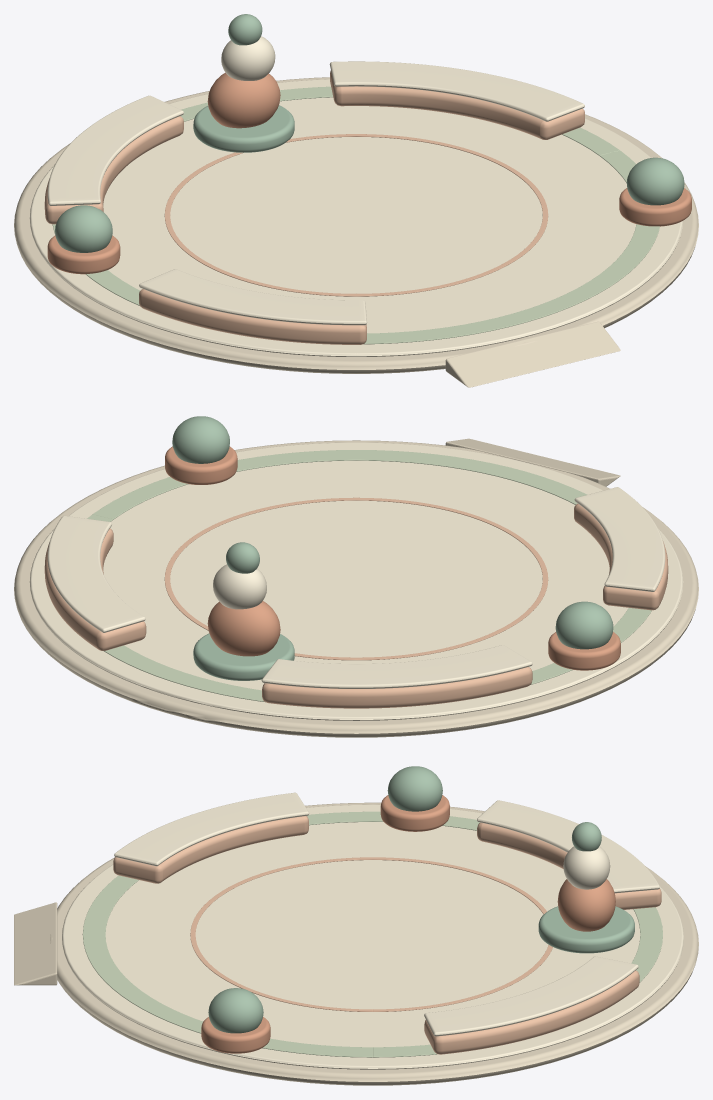
File: community_plaza.glb
3 renders of one model, top to bottom at view 1: azimuth 30°, elevation 25°; view 2: azimuth 150°, elevation 25°; view 3: azimuth 270°, elevation 25°, orthographic. The views are drawn at different scales.
Visible parts, largest first — view 1: Plaza | gathering surface, Plaza | circular foundation, Plaza | outer sage paving, Plaza | curved plinth top 1, Plaza | curved plinth top 2, Plaza | curved plinth top 3, Plaza | entry ramp, Plaza | curved sitting plinth 1, Plaza | curved sitting plinth 3, Plaza | fine inner terracotta inlay, Plaza | landmark terracotta pebble, Plaza | landmark low base (+7 smaller); view 2: Plaza | gathering surface, Plaza | circular foundation, Plaza | outer sage paving, Plaza | curved plinth top 2, Plaza | curved plinth top 1, Plaza | curved plinth top 3, Plaza | curved sitting plinth 2, Plaza | fine inner terracotta inlay, Plaza | landmark terracotta pebble, Plaza | landmark low base, Plaza | curved sitting plinth 1, Plaza | shrub 0 (+7 smaller); view 3: Plaza | gathering surface, Plaza | circular foundation, Plaza | outer sage paving, Plaza | curved plinth top 1, Plaza | curved plinth top 3, Plaza | curved plinth top 2, Plaza | curved sitting plinth 1, Plaza | curved sitting plinth 3, Plaza | entry ramp, Plaza | fine inner terracotta inlay, Plaza | landmark low base, Plaza | curved sitting plinth 2 (+7 smaller).
Part boxes in pixels (x1=…): Plaza | gathering surface: x1=29, y1=79, x2=682, y2=356; Plaza | circular foundation: x1=14, y1=77, x2=698, y2=373; Plaza | outer sage paving: x1=52, y1=86, x2=659, y2=344; Plaza | curved plinth top 1: x1=329, y1=61, x2=584, y2=121; Plaza | curved plinth top 2: x1=47, y1=95, x2=183, y2=205; Plaza | curved plinth top 3: x1=139, y1=269, x2=367, y2=325; Plaza | entry ramp: x1=445, y1=321, x2=620, y2=387; Plaza | curved sitting plinth 1: x1=330, y1=70, x2=584, y2=139; Plaza | curved sitting plinth 3: x1=139, y1=289, x2=366, y2=344; Plaza | fine inner terracotta inlay: x1=164, y1=134, x2=548, y2=296; Plaza | landmark terracotta pebble: x1=207, y1=72, x2=280, y2=128; Plaza | landmark low base: x1=193, y1=105, x2=294, y2=152; Plaza | gathering surface: x1=29, y1=442, x2=683, y2=720; Plaza | circular foundation: x1=14, y1=440, x2=698, y2=737; Plaza | outer sage paving: x1=87, y1=450, x2=651, y2=702; Plaza | curved plinth top 2: x1=261, y1=645, x2=532, y2=688; Plaza | curved plinth top 1: x1=47, y1=515, x2=145, y2=632; Plaza | curved plinth top 3: x1=574, y1=487, x2=665, y2=591; Plaza | curved sitting plinth 2: x1=262, y1=667, x2=532, y2=708; Plaza | fine inner terracotta inlay: x1=164, y1=497, x2=548, y2=660; Plaza | landmark terracotta pebble: x1=207, y1=601, x2=280, y2=656; Plaza | landmark low base: x1=193, y1=633, x2=294, y2=680; Plaza | curved sitting plinth 1: x1=44, y1=528, x2=146, y2=650; Plaza | shrub 0: x1=555, y1=601, x2=613, y2=649; Plaza | gathering surface: x1=62, y1=804, x2=683, y2=1069; Plaza | circular foundation: x1=50, y1=802, x2=698, y2=1085; Plaza | outer sage paving: x1=82, y1=811, x2=662, y2=1057; Plaza | curved plinth top 1: x1=424, y1=956, x2=638, y2=1036; Plaza | curved plinth top 3: x1=114, y1=792, x2=309, y2=866; Plaza | curved plinth top 2: x1=477, y1=800, x2=659, y2=893; Plaza | curved sitting plinth 1: x1=424, y1=970, x2=639, y2=1054; Plaza | curved sitting plinth 3: x1=113, y1=816, x2=308, y2=883; Plaza | entry ramp: x1=14, y1=902, x2=57, y2=985; Plaza | fine inner terracotta inlay: x1=190, y1=857, x2=552, y2=1011; Plaza | landmark low base: x1=538, y1=906, x2=634, y2=953; Plaza | curved sitting plinth 2: x1=477, y1=822, x2=661, y2=909.
Bounding box in the file's own units: 10 × 2.15 × 10.5.
